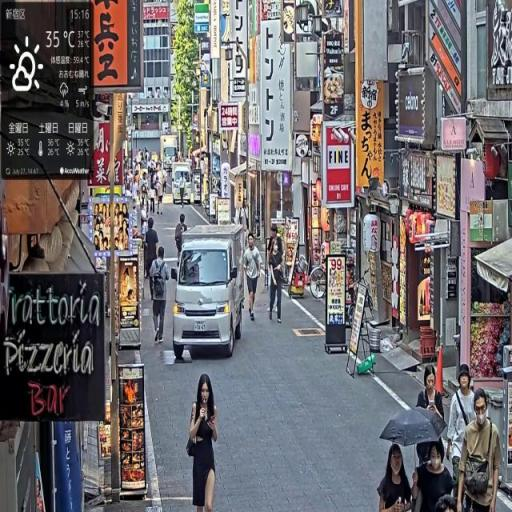person: (456, 387, 503, 512), (188, 371, 221, 512), (413, 441, 455, 512), (378, 444, 415, 512), (150, 243, 171, 346), (266, 222, 286, 326), (243, 233, 264, 324), (145, 217, 161, 303)
